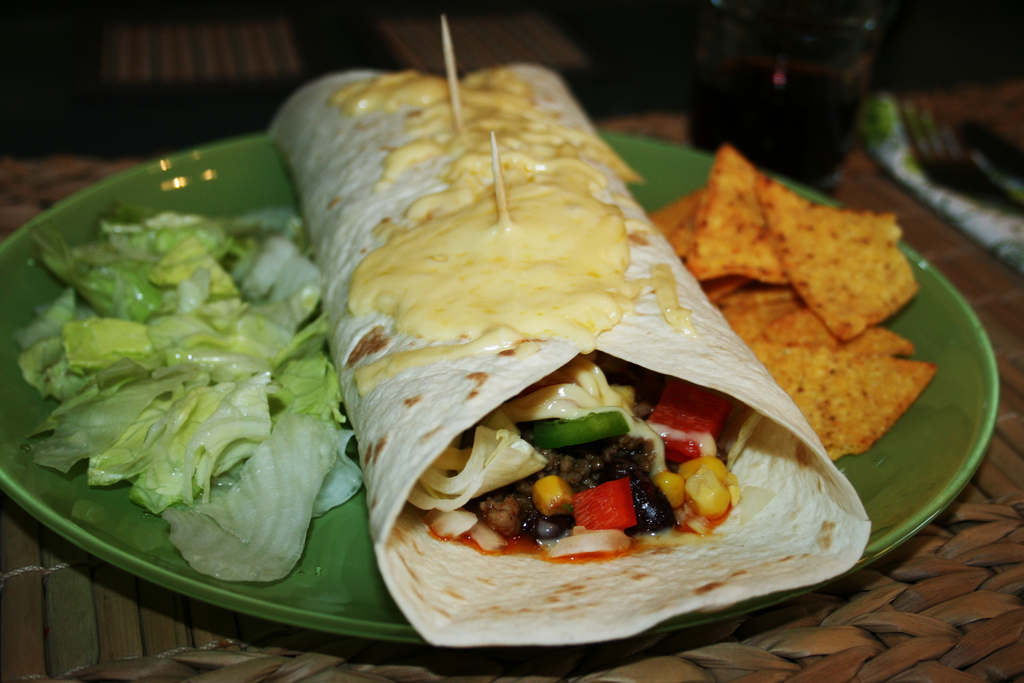Cabbage: (11, 198, 364, 580), (405, 406, 547, 510)
